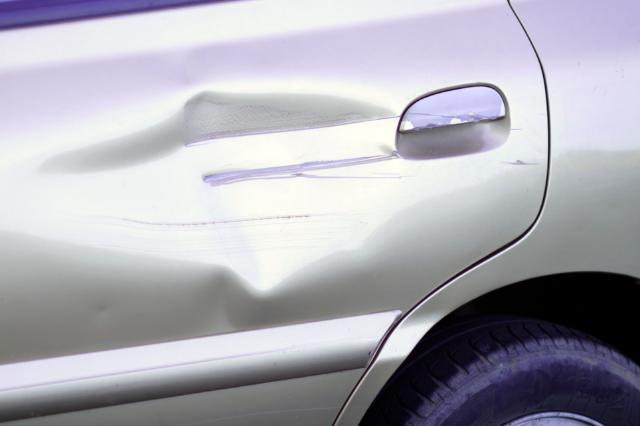Door: (5, 45, 549, 319)
